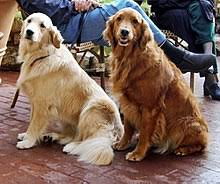Golden Retriever: (102, 7, 220, 156), (5, 7, 101, 168)
